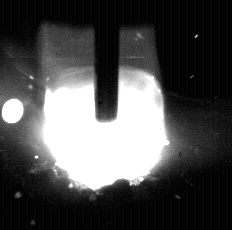arame: (96, 0, 121, 124)
poca: (42, 0, 167, 230)
